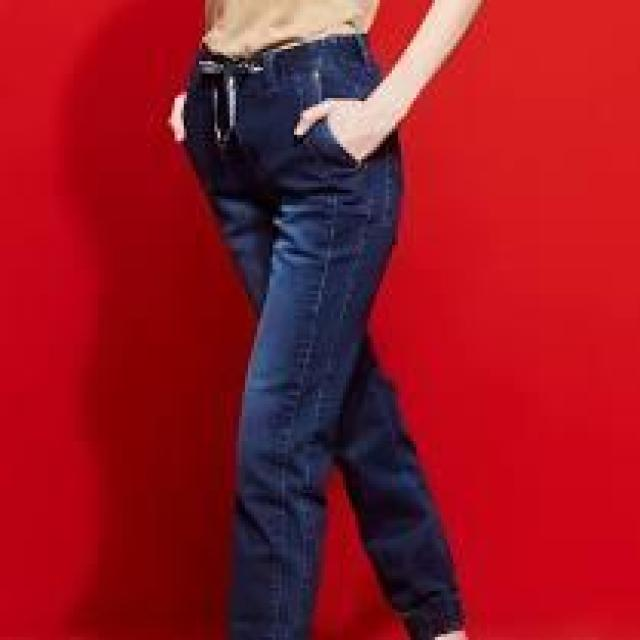pants: (184, 35, 468, 636)
